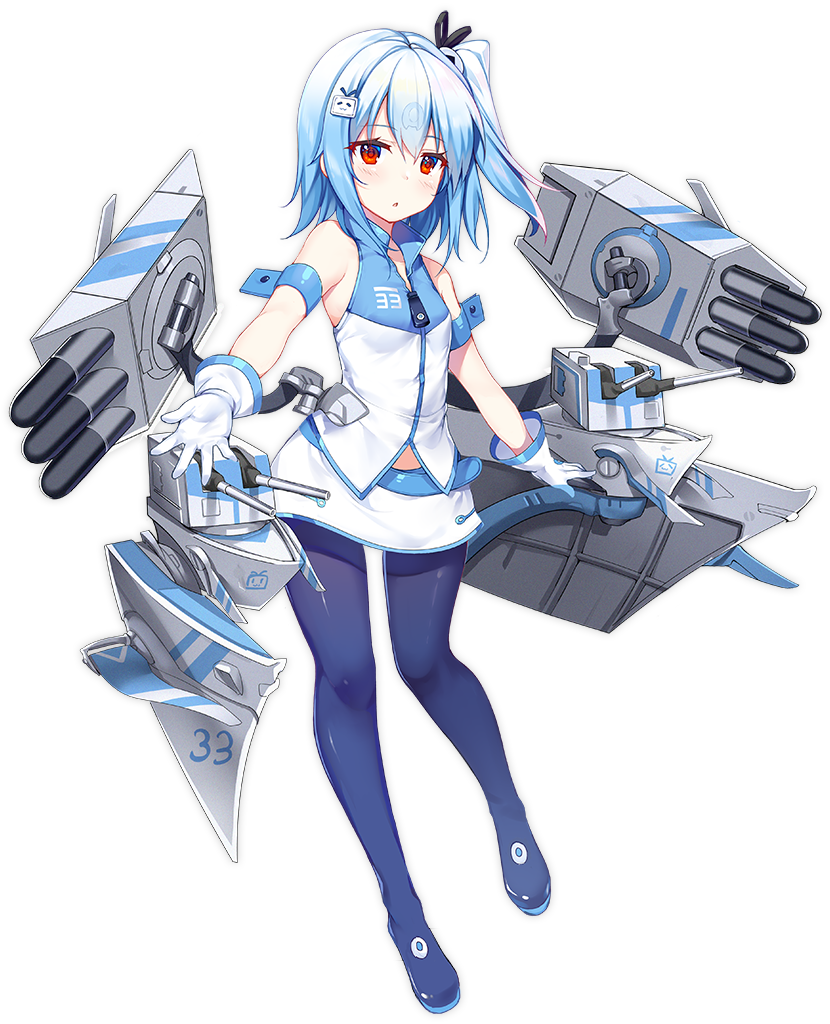person: (154, 25, 613, 832)
